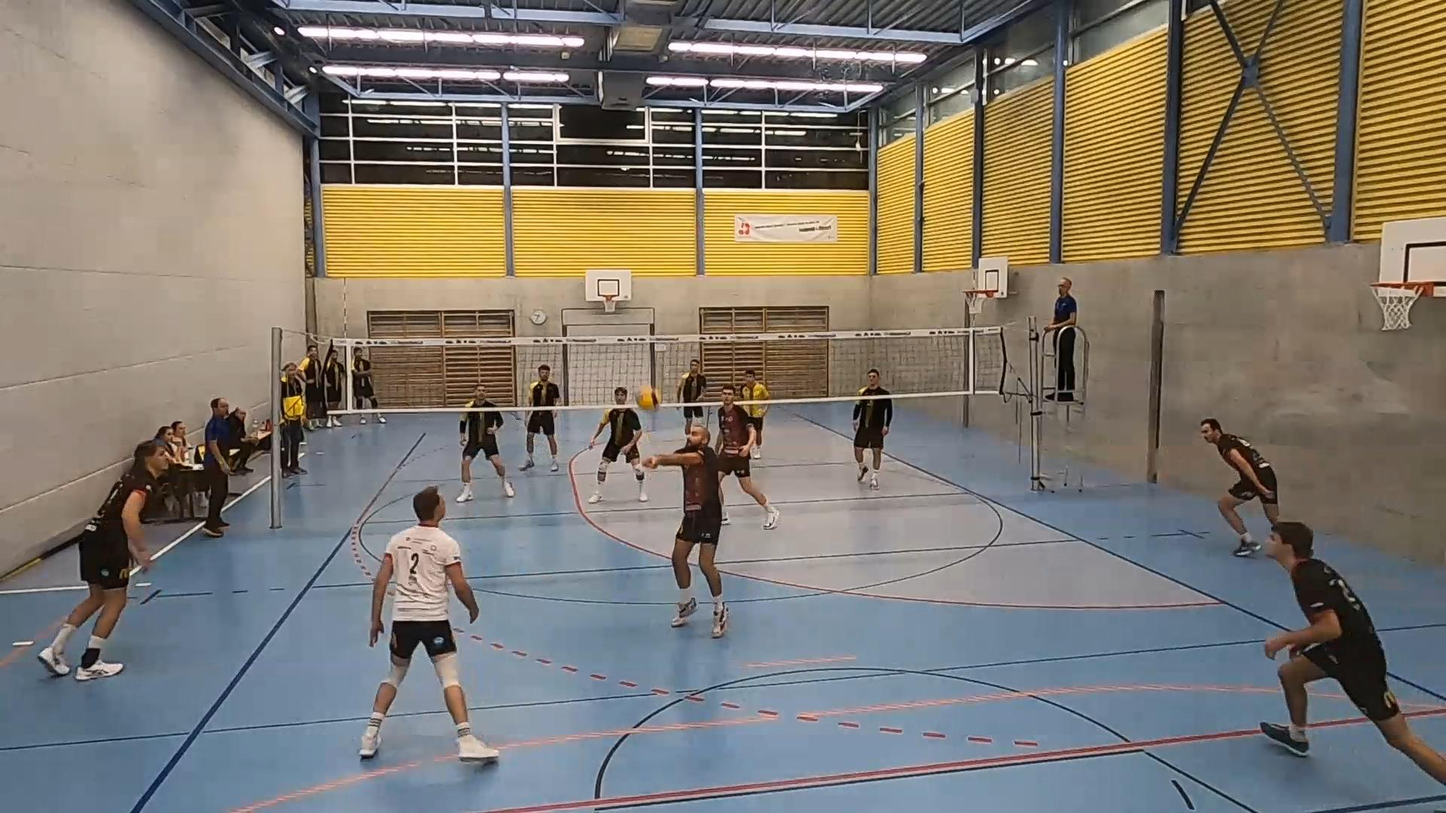Player: (1262, 523, 1445, 783), (359, 486, 499, 760), (38, 441, 169, 681), (1201, 418, 1278, 556), (716, 383, 779, 529), (588, 388, 648, 504), (456, 384, 514, 502), (853, 369, 892, 489), (520, 409, 558, 472), (677, 358, 706, 434), (746, 403, 768, 459)
Set: (638, 427, 738, 642)
ball: (633, 388, 666, 412)
